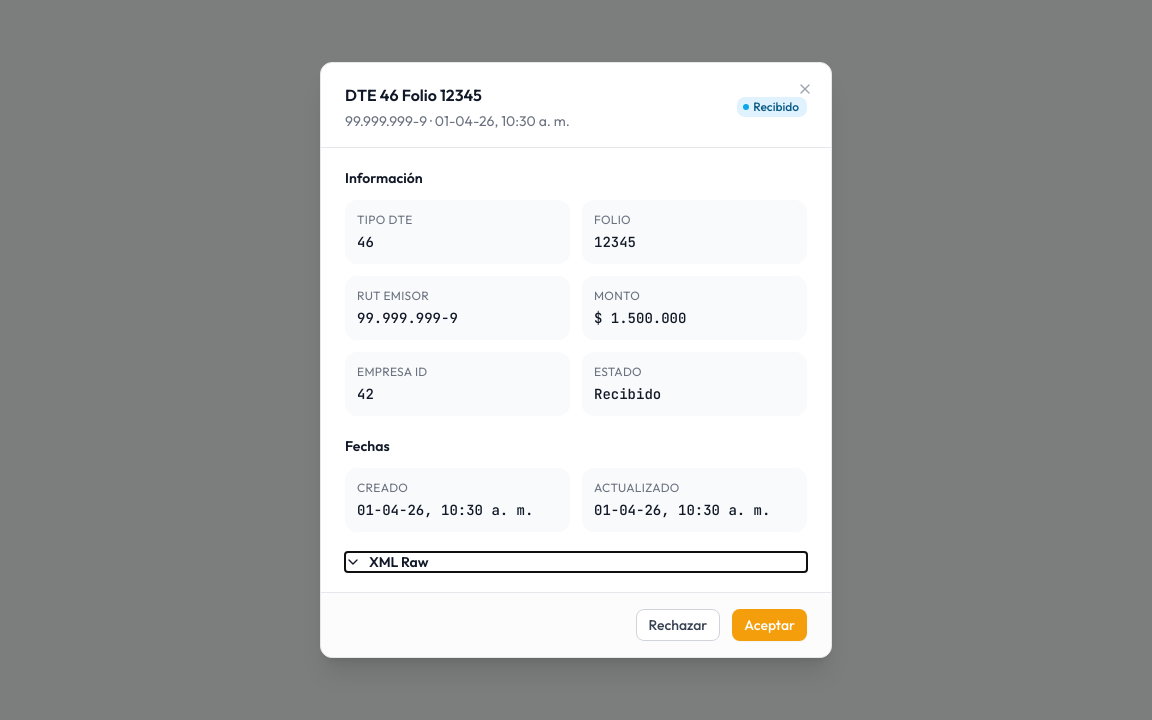
Test case: DTERecepcionModal › toggles XML section when clicking XML Raw button
The image size is (1152, 720).
Expected: the text "<documento>...</documento>" is not shown
Click to expand
Click the button "XML Raw".
click(399, 562)  # box top-left (345, 552), bottom-right (807, 572)
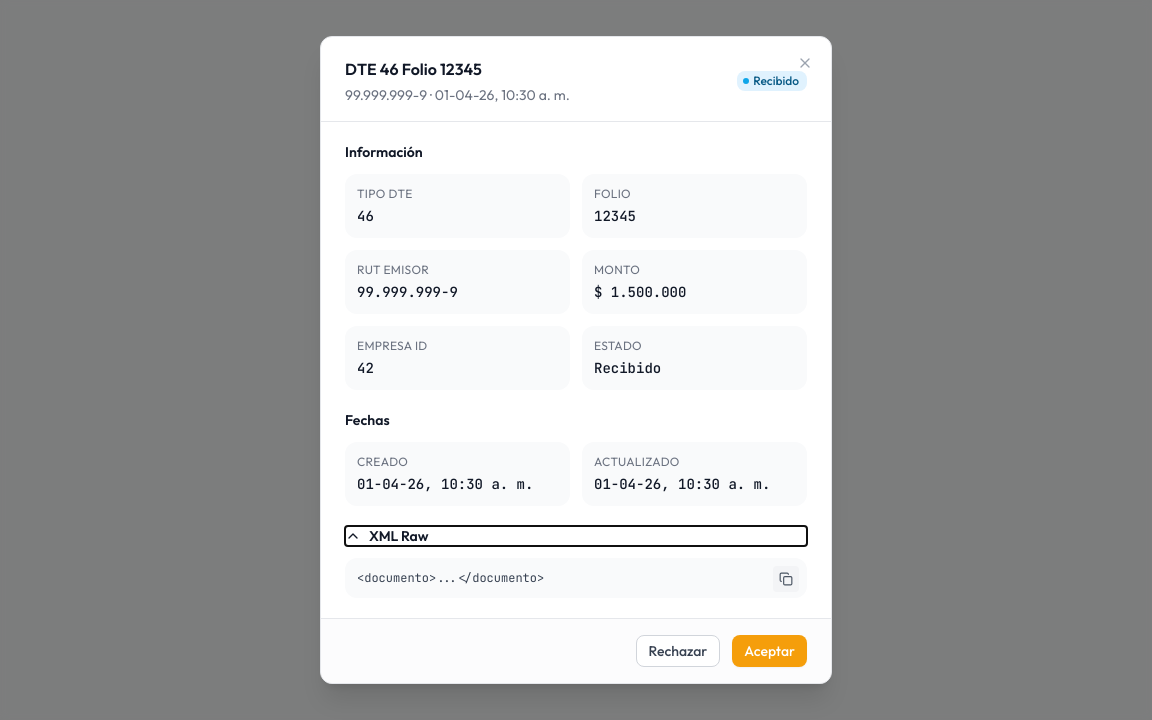
Now the text "<documento>...</documento>" is shown, box top-left (345, 558), bottom-right (807, 598)
Click to collapse
Click the button "XML Raw".
click(399, 536)  # box top-left (345, 526), bottom-right (807, 546)
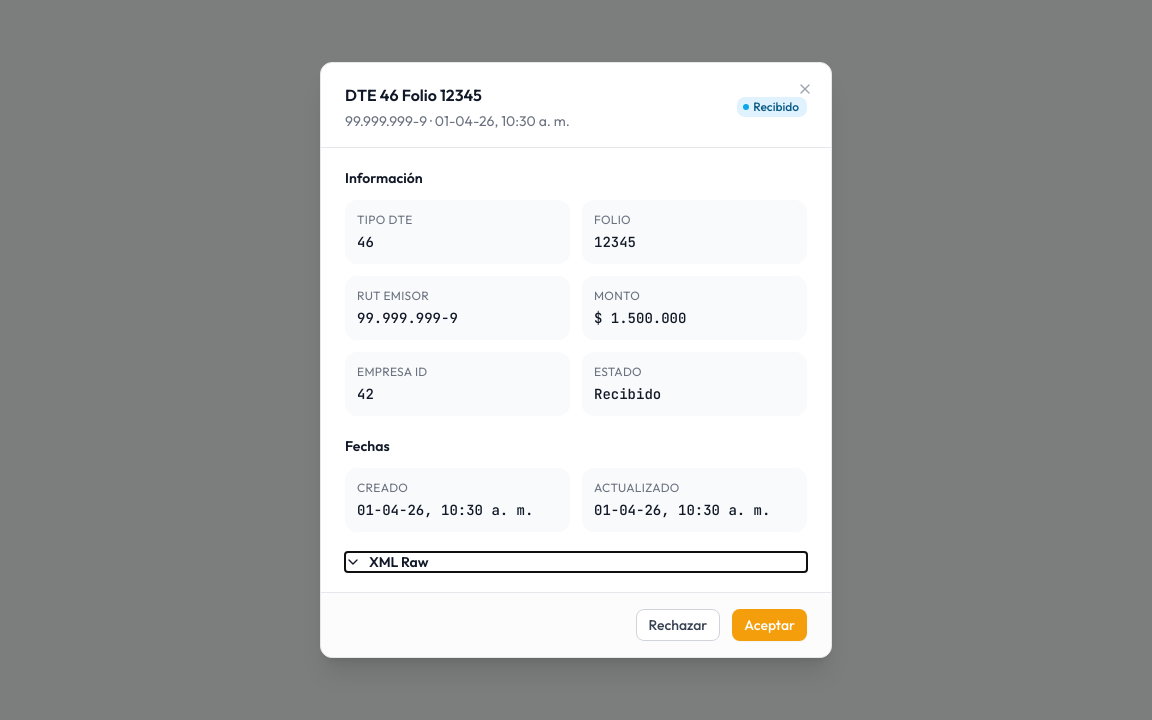
Now the text "<documento>...</documento>" is gone
